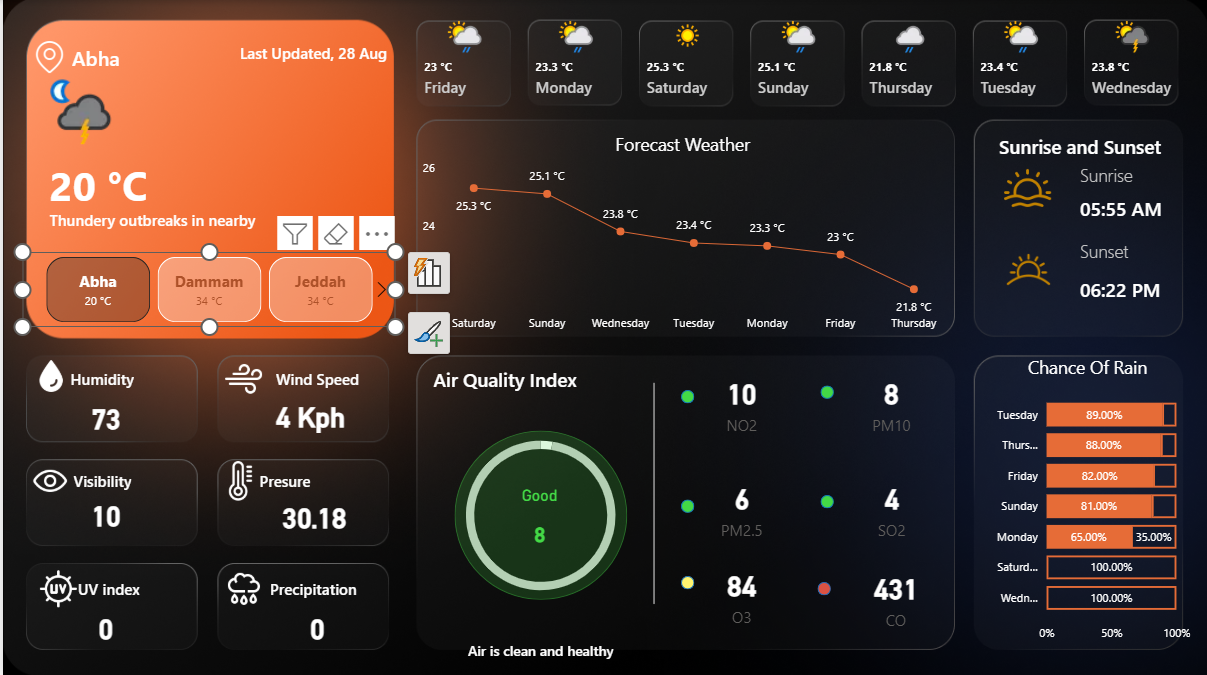

The page's visual inventory and layout, read from the dashboard file:
{"tool":"powerbi","page":{"name":"Weather_report","canvas":[1280,720],"ordinal":0},"visuals":[{"type":"donutChart","fields":{"Y":["Sum(Current.current.air_quality.pm10)","_Measures.Left_value_PM10"]},"box":[423.3,442.9,293.5,208.1],"z":0},{"type":"shape","box":[478.5,457.1,183.2,179.6],"z":1000},{"type":"advancedSlicerVisual","fields":{"Values":["locations.location.name"]},"box":[20.7,267.2,396.1,79.5],"z":2000},{"type":"shape","box":[48.6,158,135.7,74.9],"z":3000},{"type":"shape","box":[48.6,206.6,222.8,52.7],"z":4000},{"type":"shape","box":[72.9,38.5,111.4,44.6],"z":5000},{"type":"shape","box":[251.1,30.4,160,52.7],"z":6000},{"type":"image","box":[26.3,38.5,44.6,44.6],"z":7000},{"type":"cardVisual","fields":{"Data":["Min(Current.current.condition.icon)"]},"box":[16.2,60.8,111.4,121.5],"z":8000},{"type":"image","box":[26.3,374.7,48.6,46.6],"z":9000},{"type":"image","box":[218.7,484.1,64.8,52.7],"z":10000},{"type":"image","box":[14.2,484.1,70.9,52.7],"z":11000},{"type":"image","box":[26.3,597.5,62.8,52.7],"z":12000},{"type":"image","box":[218.7,374.7,70.9,52.7],"z":13000},{"type":"image","box":[212.7,597.5,85.1,52.7],"z":14000},{"type":"shape","box":[283.5,597.5,160,52.7],"z":15000},{"type":"shape","box":[79,597.5,160,52.7],"z":16000},{"type":"shape","box":[74.9,484.1,160,52.7],"z":17000},{"type":"shape","box":[271.4,484.1,160,52.7],"z":18000},{"type":"shape","box":[289.6,374.7,160,52.7],"z":19000},{"type":"shape","box":[70.9,374.7,160,52.7],"z":20000},{"type":"card","fields":{"Values":["Sum(Current.current.humidity)"]},"box":[64.8,401,87.1,83],"z":21000},{"type":"card","fields":{"Values":["Sum(Current.current.uv)"]},"box":[64.8,623.8,87.1,83],"z":22000},{"type":"card","fields":{"Values":["Sum(Current.current.pressure_in)"]},"box":[285.6,506.3,87.1,83],"z":23000},{"type":"card","fields":{"Values":["Sum(Current.current.vis_km)"]},"box":[64.8,504.3,87.1,83],"z":24000},{"type":"card","fields":{"Values":["_Measures.Wind_Speed"]},"box":[261.3,399,129.6,83],"z":25000},{"type":"card","fields":{"Values":["Sum(Current.current.precip_in)"]},"box":[289.6,623.8,87.1,83],"z":26000},{"type":"advancedSlicerVisual","fields":{"Values":["Forecast_day.Day_Name"]},"box":[432.2,14.2,826.4,106.9],"z":27000},{"type":"lineChart","title":"Forecast Weather","fields":{"Y":["Sum(Forecast_day.forecast.forecastday.day.avgtemp_c)"],"Category":["Forecast_day.Day_Name"]},"box":[443.5,137.7,552.9,222.8],"z":28000},{"type":"shape","box":[1040.3,128.8,203.6,52.5],"z":29000},{"type":"shape","box":[1142.1,195.6,101.8,50.9],"z":30000},{"type":"shape","box":[1142.1,163.8,101.8,42.9],"z":31000},{"type":"shape","box":[1142.1,249.7,135.2,31.8],"z":32000},{"type":"image","box":[1043.4,249.7,87.5,71.6],"z":33000},{"type":"image","box":[1056.2,167,60.4,65.2],"z":34000},{"type":"hundredPercentStackedBarChart","title":"Chance Of Rain","fields":{"Y":["Sum(Forecast_day.forecast.forecastday.day.daily_chance_of_rain)","_Measures.Left_value_Rain"],"Category":["Forecast_day.Day_Name"]},"box":[1041,374.7,218.7,313.9],"z":35000},{"type":"shape","box":[431.4,376.7,202.5,50.6],"z":36000},{"type":"card","fields":{"Values":["Sum(Current.current.air_quality.o3)"]},"box":[719.6,588.9,128.2,83.1],"z":37000},{"type":"card","fields":{"Values":["Sum(Current.current.air_quality.no2)"]},"box":[719.6,384.7,128.2,83.1],"z":38000},{"type":"card","fields":{"Values":["Sum(Current.current.air_quality.pm10)"]},"box":[876.3,384.7,130.6,83.1],"z":39000},{"type":"card","fields":{"Values":["Sum(Current.current.air_quality.co)"]},"box":[881,591.3,130.6,83.1],"z":40000},{"type":"card","fields":{"Values":["Sum(Current.current.air_quality.pm2_5)"]},"box":[719.6,496.3,128.2,83.1],"z":41000},{"type":"card","fields":{"Values":["Sum(Current.current.air_quality.so2)"]},"box":[878.7,496.3,128.2,83.1],"z":42000},{"type":"shape","box":[719.6,413.2,14.2,14.2],"z":43000},{"type":"shape","box":[719.6,610.3,14.2,14.2],"z":44000},{"type":"shape","box":[866.8,524.8,14.2,14.2],"z":45000},{"type":"shape","box":[719.6,529.6,14.2,14.2],"z":46000},{"type":"shape","box":[866.8,408.5,14.2,14.2],"z":47000},{"type":"shape","box":[864.4,617.4,14.2,14.2],"z":48000},{"type":"shape","box":[615.1,406.1,149.6,235.1],"z":49000},{"type":"card","fields":{"Values":["Sum(Current.current.air_quality.pm10)"]},"box":[514,515.8,110.3,81.8],"z":50000},{"type":"shape","box":[1142.1,281.5,101.8,50.9],"z":51000},{"type":"shape","box":[450,663.4,240.1,51.6],"z":52000}]}

Visuals, with their boxes in screenshot pixels (x1, y1, x2, y2), scaled from the page's 1280x720 canvas onto the 1207x675 screenshot:
donutChart - Sum(Current.current.air_quality.pm10) x _Measures.Left_value_PM10: l=399, t=415, r=676, b=610
shape: l=451, t=429, r=624, b=597
advancedSlicerVisual - locations.location.name: l=20, t=250, r=393, b=325
shape: l=46, t=148, r=174, b=218
shape: l=46, t=194, r=256, b=243
shape: l=69, t=36, r=174, b=78
shape: l=237, t=28, r=388, b=78
image: l=25, t=36, r=67, b=78
cardVisual - Min(Current.current.condition.icon): l=15, t=57, r=120, b=171
image: l=25, t=351, r=71, b=395
image: l=206, t=454, r=267, b=503
image: l=13, t=454, r=80, b=503
image: l=25, t=560, r=84, b=610
image: l=206, t=351, r=273, b=401
image: l=201, t=560, r=281, b=610
shape: l=267, t=560, r=418, b=610
shape: l=74, t=560, r=225, b=610
shape: l=71, t=454, r=222, b=503
shape: l=256, t=454, r=407, b=503
shape: l=273, t=351, r=424, b=401
shape: l=67, t=351, r=218, b=401
card - Sum(Current.current.humidity): l=61, t=376, r=143, b=454
card - Sum(Current.current.uv): l=61, t=585, r=143, b=663
card - Sum(Current.current.pressure_in): l=269, t=475, r=351, b=552
card - Sum(Current.current.vis_km): l=61, t=473, r=143, b=551
card - _Measures.Wind_Speed: l=246, t=374, r=369, b=452
card - Sum(Current.current.precip_in): l=273, t=585, r=355, b=663
advancedSlicerVisual - Forecast_day.Day_Name: l=408, t=13, r=1187, b=114
"Forecast Weather" lineChart: l=418, t=129, r=940, b=338
shape: l=981, t=121, r=1173, b=170
shape: l=1077, t=183, r=1173, b=231
shape: l=1077, t=154, r=1173, b=194
shape: l=1077, t=234, r=1204, b=264
image: l=984, t=234, r=1066, b=301
image: l=996, t=157, r=1053, b=218
"Chance Of Rain" hundredPercentStackedBarChart: l=982, t=351, r=1188, b=646
shape: l=407, t=353, r=598, b=401
card - Sum(Current.current.air_quality.o3): l=679, t=552, r=799, b=630
card - Sum(Current.current.air_quality.no2): l=679, t=361, r=799, b=439
card - Sum(Current.current.air_quality.pm10): l=826, t=361, r=949, b=439
card - Sum(Current.current.air_quality.co): l=831, t=554, r=954, b=632
card - Sum(Current.current.air_quality.pm2_5): l=679, t=465, r=799, b=543
card - Sum(Current.current.air_quality.so2): l=829, t=465, r=949, b=543
shape: l=679, t=387, r=692, b=401
shape: l=679, t=572, r=692, b=585
shape: l=817, t=492, r=831, b=505
shape: l=679, t=496, r=692, b=510
shape: l=817, t=383, r=831, b=396
shape: l=815, t=579, r=828, b=592
shape: l=580, t=381, r=721, b=601
card - Sum(Current.current.air_quality.pm10): l=485, t=484, r=589, b=560
shape: l=1077, t=264, r=1173, b=312
shape: l=424, t=622, r=651, b=670
